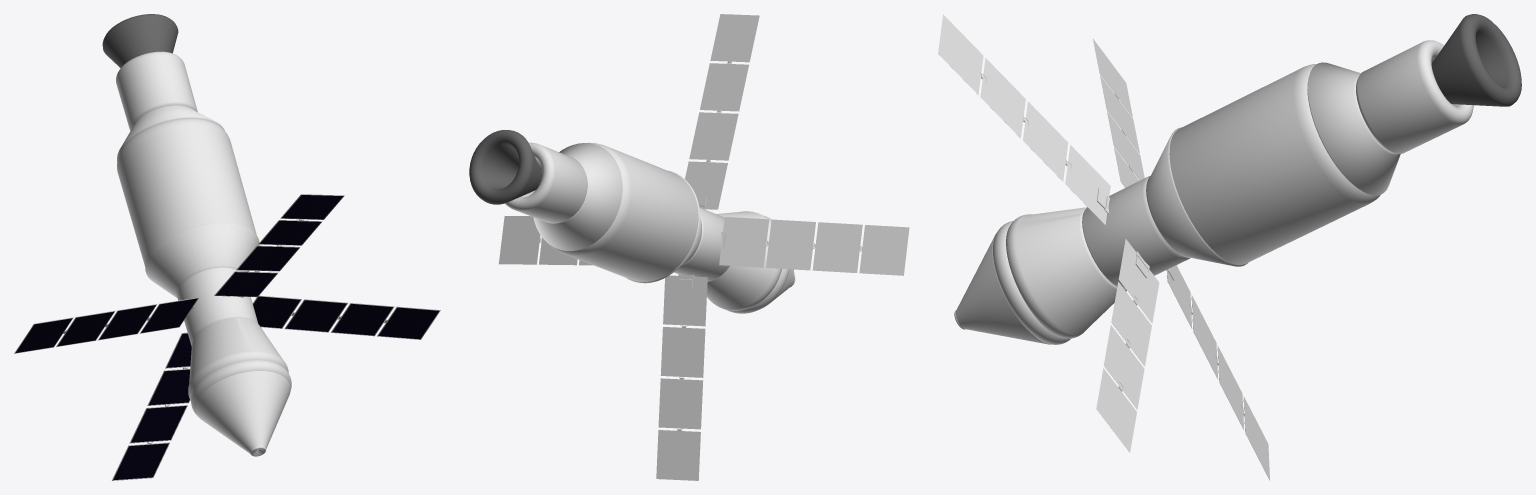
Rendered from artemiss.glb.
3 views of the same model, side by side, from view 1: azimuth 30°, elevation 25°; view 2: azimuth 150°, elevation 25°; view 3: azimuth 270°, elevation 25° (orthographic). The views are drawn at different scales.
Parts seen in each view (by area): view 1: Artemis; view 2: Artemis; view 3: Artemis.
Part boxes in pixels (box(x1,y1,x2,y2)): Artemis: box(14, 14, 440, 480); Artemis: box(469, 14, 909, 480); Artemis: box(938, 14, 1521, 480).
Bounding box in the file's own units: 1.54 × 1.38 × 1.45.
Materials: 13 (1 with a texture image).
